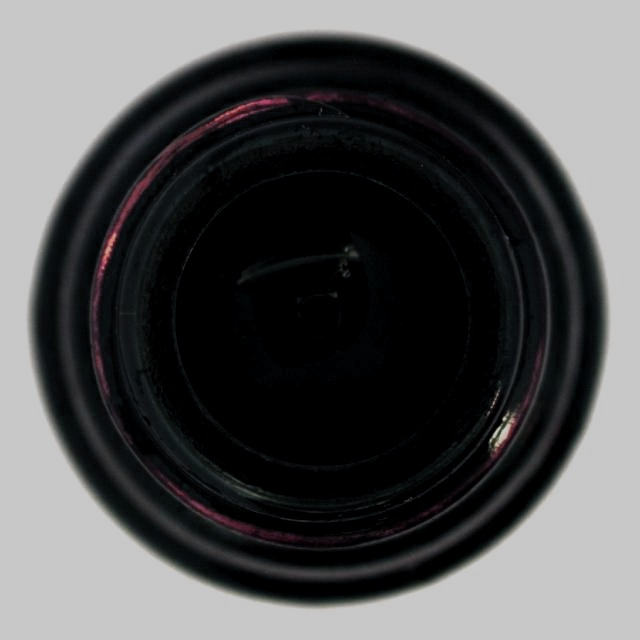bad-contamination: (26, 29, 611, 610)
